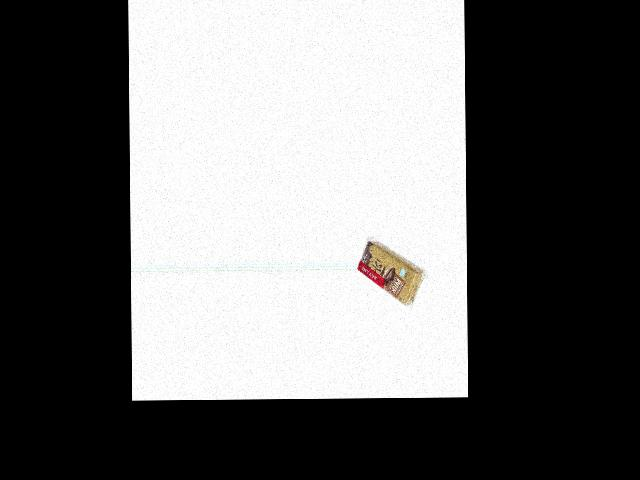chocolate: (358, 239, 425, 313)
